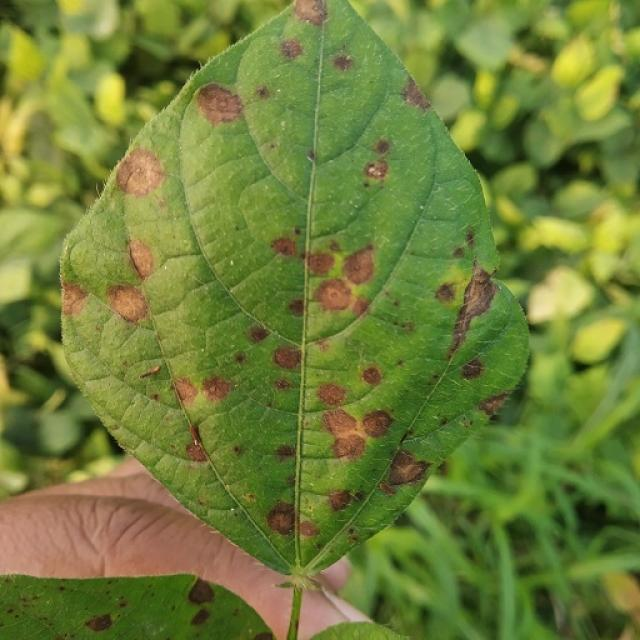Anthracnose: (341, 234, 394, 292), (114, 145, 166, 199), (195, 82, 244, 126), (459, 267, 497, 321), (105, 283, 149, 325), (386, 449, 431, 489), (314, 277, 357, 313), (340, 247, 376, 287), (322, 407, 362, 440), (127, 239, 156, 280), (265, 501, 298, 535), (400, 76, 432, 110), (60, 281, 88, 318), (361, 409, 394, 440), (331, 432, 365, 460), (201, 375, 232, 404), (293, 0, 327, 25), (477, 392, 510, 417), (306, 250, 337, 276), (315, 382, 347, 407), (187, 578, 216, 605), (272, 345, 301, 370), (173, 377, 199, 404), (271, 236, 299, 258), (84, 613, 114, 633), (328, 489, 354, 512), (460, 358, 485, 380), (185, 441, 209, 463), (279, 38, 303, 60), (363, 160, 388, 181), (434, 282, 457, 304), (471, 265, 493, 287), (350, 296, 371, 318), (361, 366, 383, 386), (332, 53, 354, 72), (247, 325, 269, 344), (189, 608, 211, 627), (298, 521, 320, 539), (274, 444, 296, 461), (287, 299, 305, 316), (254, 84, 271, 100), (19, 594, 38, 608), (272, 378, 292, 391), (379, 482, 397, 496), (375, 139, 391, 154), (347, 529, 361, 544), (234, 353, 247, 365), (307, 149, 316, 161), (232, 445, 242, 455)
Blackgram: (61, 0, 526, 571)
